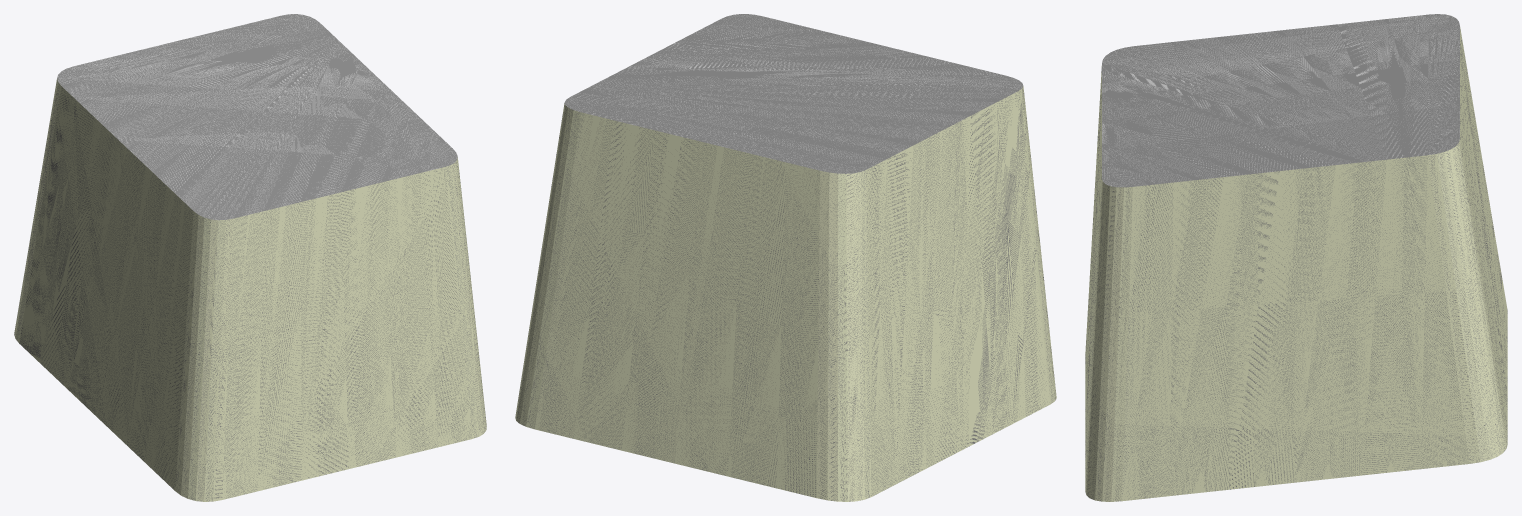
File: original-81.obj
3 renders of one model, left to right at view 1: azimuth 30°, elevation 25°; view 2: azimuth 150°, elevation 25°; view 3: azimuth 270°, elevation 25°, orthographic. The views are drawn at different scales.
Visible parts, largest first — view 1: mesh81/mesh81-geometry#mesh81-geometry; view 2: mesh81/mesh81-geometry#mesh81-geometry; view 3: mesh81/mesh81-geometry#mesh81-geometry.
Boxes of the visible parts, x1,y1,x2,y2 form: mesh81/mesh81-geometry#mesh81-geometry: (14, 14, 486, 501); mesh81/mesh81-geometry#mesh81-geometry: (515, 14, 1056, 501); mesh81/mesh81-geometry#mesh81-geometry: (1085, 14, 1507, 501).
Size of the model in its own units: 0.0633 by 0.0606 by 0.0681.
